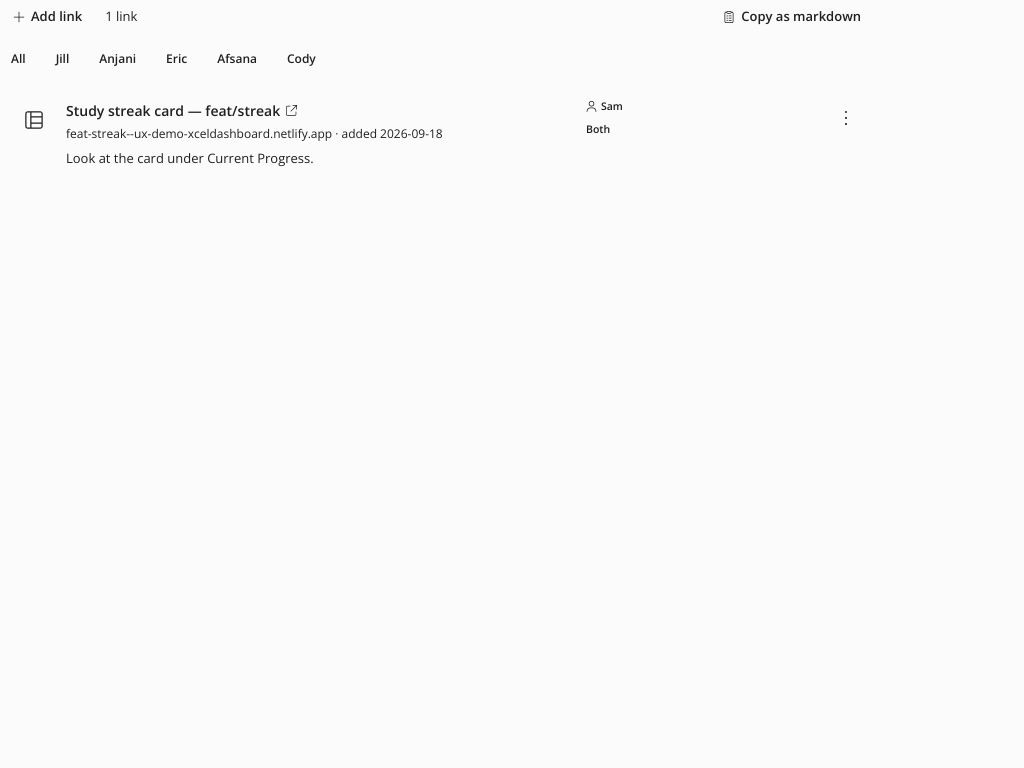
Refinement — designer pills and the archive (2026-10-15) › Added by is a choice from the roster, with a legacy name kept as its own option
The width and height of the screenshot is (1024, 768).
Expected: the text "1 link" is shown, [105, 7, 137, 26]
Click the button "Add link" at (48, 17), box [0, 0, 95, 34]
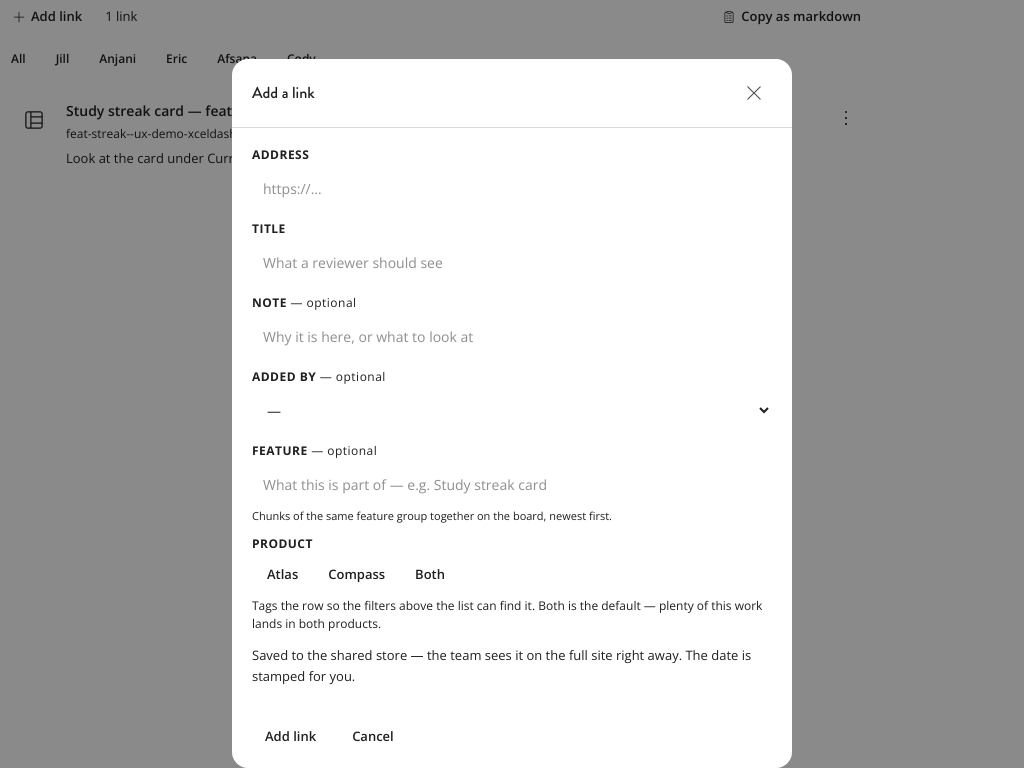
Press Escape
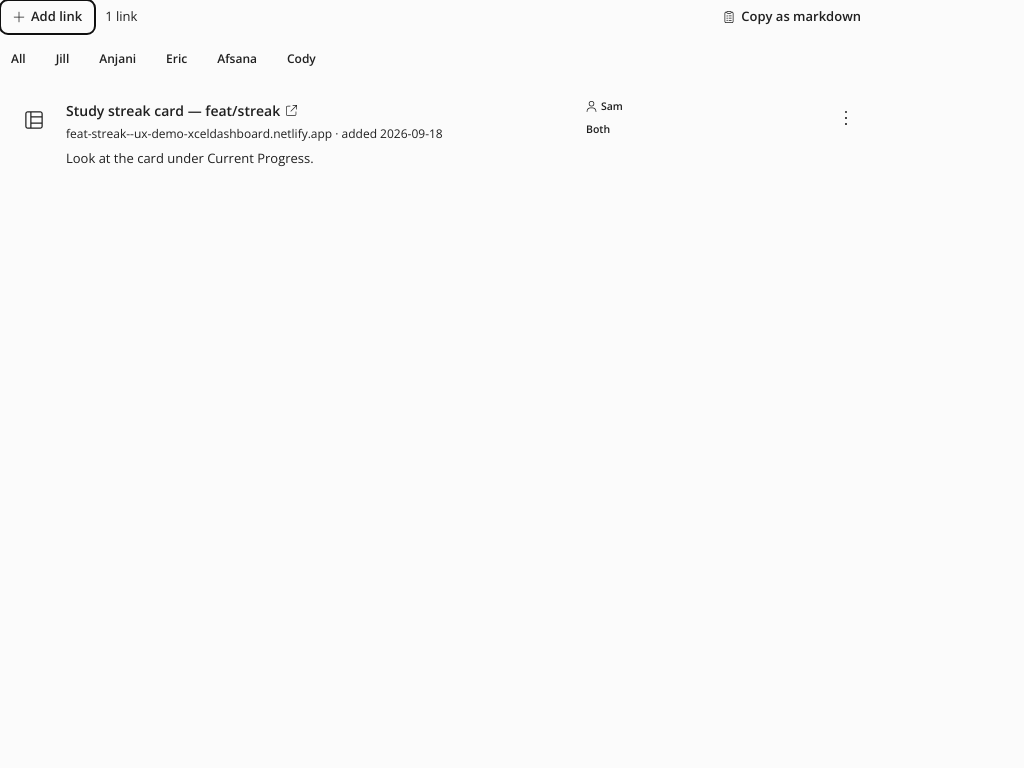
Editing Sam's row does not silently reassign it: Sam is an option there.
Click the button named "Actions for " at (846, 118), box [830, 102, 862, 134]
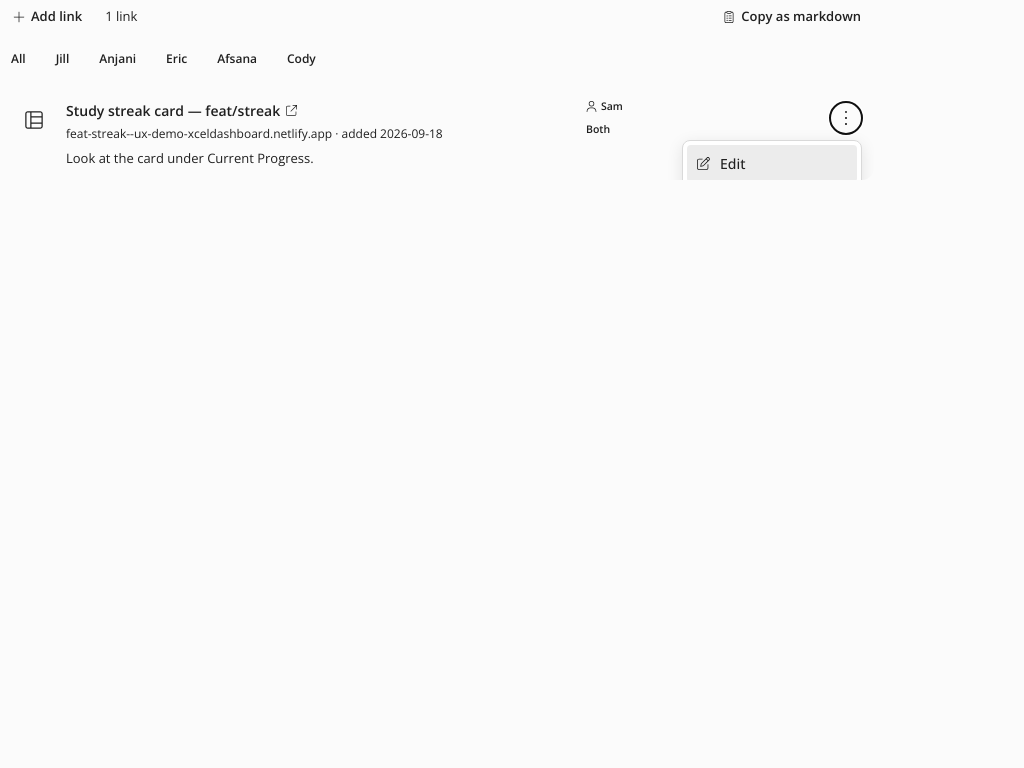
Click the menu item "Edit" at (772, 164), box [687, 145, 857, 182]
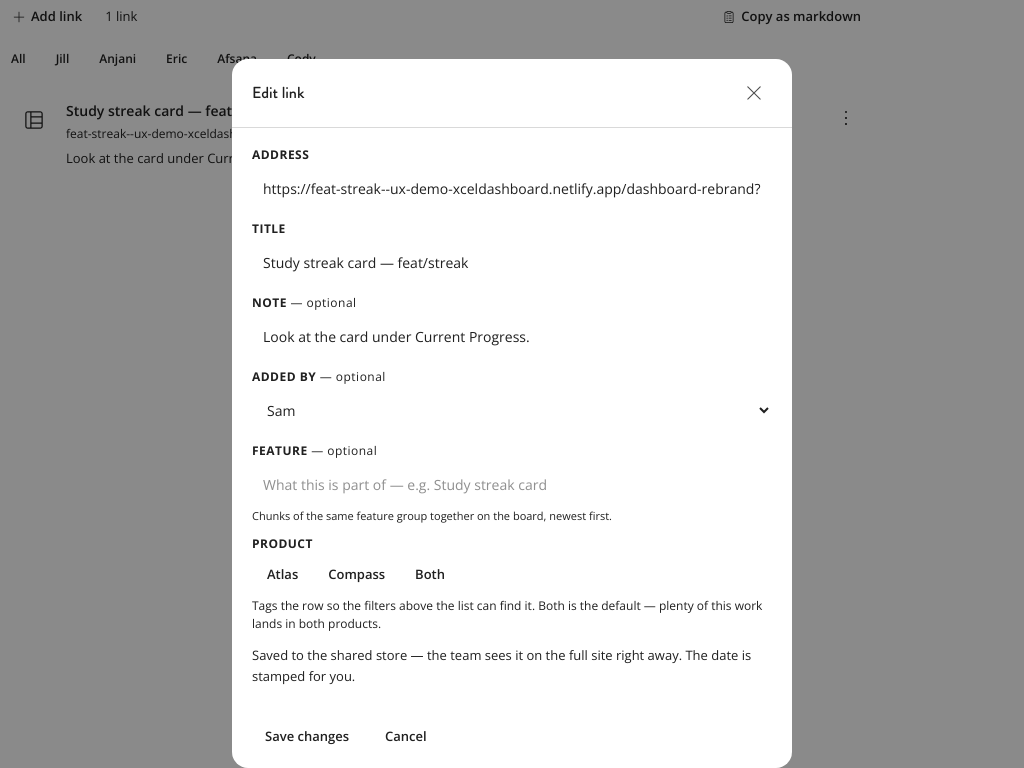
Now the dropdown labelled "Added by — optional" shows "Sam", box [252, 391, 772, 430]
